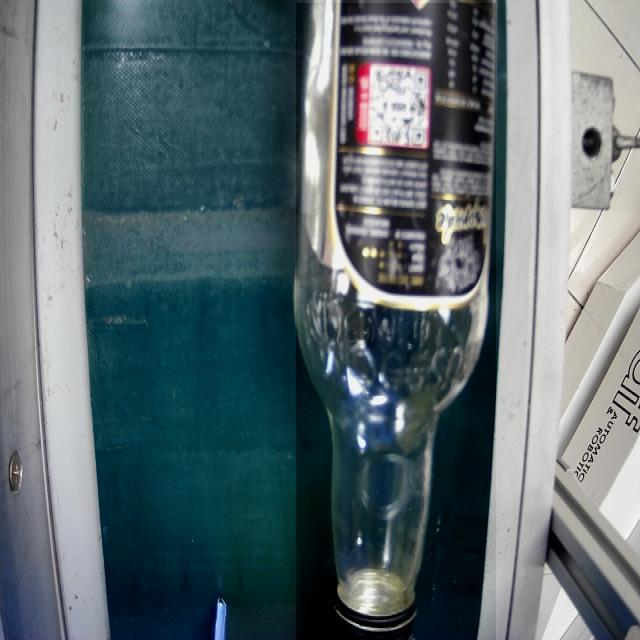Glass: (296, 3, 496, 640)
